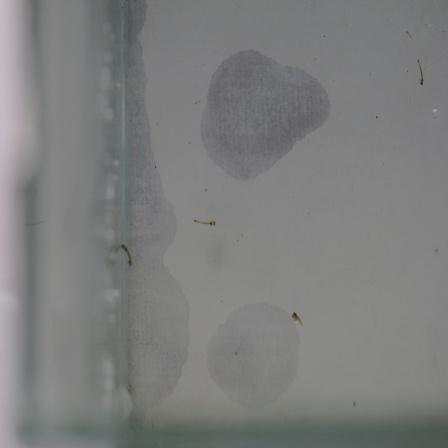Jentik-Nyamuk: (116, 239, 138, 271), (413, 54, 429, 91), (191, 212, 221, 231), (291, 306, 307, 333)
